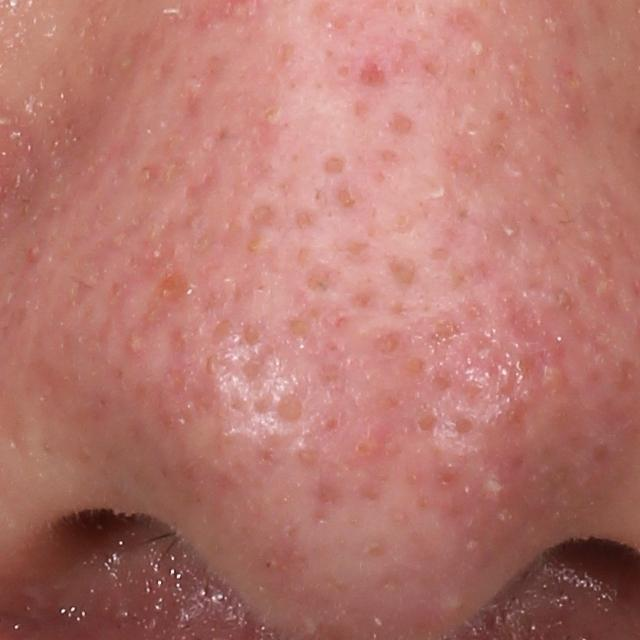pustule: (468, 34, 487, 57)
